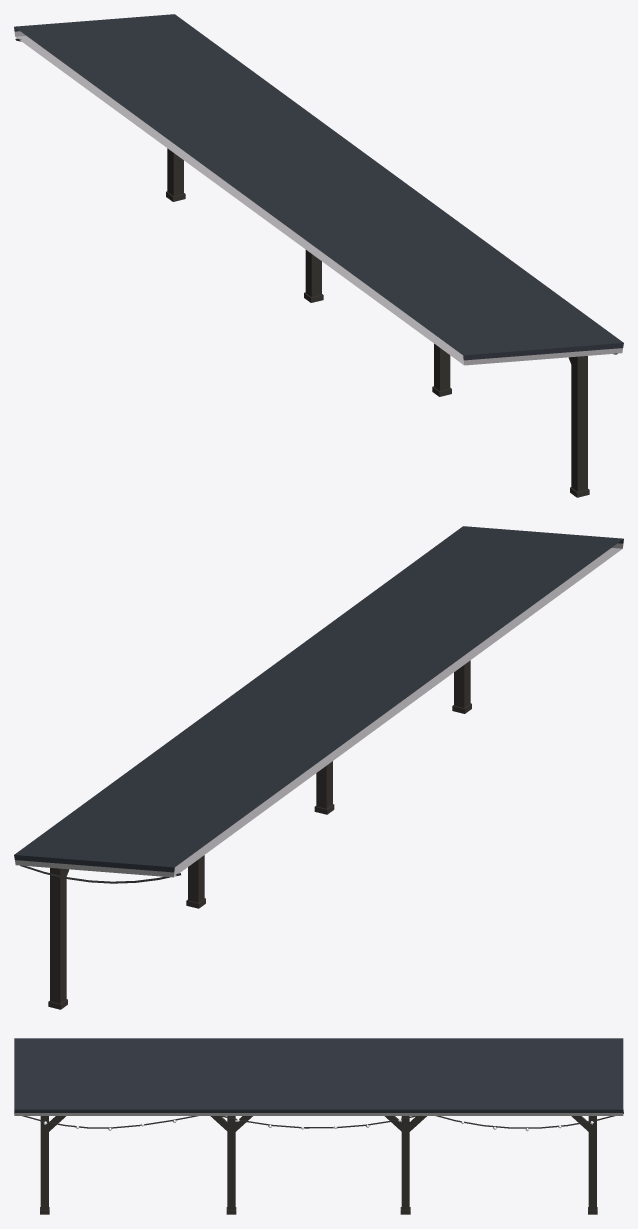
Rendered from SM_shopAwing_01.gltf.
3 renders of one model, top to bottom at view 1: azimuth 30°, elevation 25°; view 2: azimuth 150°, elevation 25°; view 3: azimuth 270°, elevation 25°, orthographic. The views are drawn at different scales.
Visible parts, largest first — view 1: SM_shopAwing_01; view 2: SM_shopAwing_01; view 3: SM_shopAwing_01.
Boxes of the visible parts, x1=… form: SM_shopAwing_01: x1=14, y1=14, x2=623, y2=497; SM_shopAwing_01: x1=14, y1=526, x2=623, y2=1009; SM_shopAwing_01: x1=14, y1=1038, x2=623, y2=1214.
Bounding box in the file's own units: 2.93 × 3.24 × 14.02.
1 material, 1 textured.
